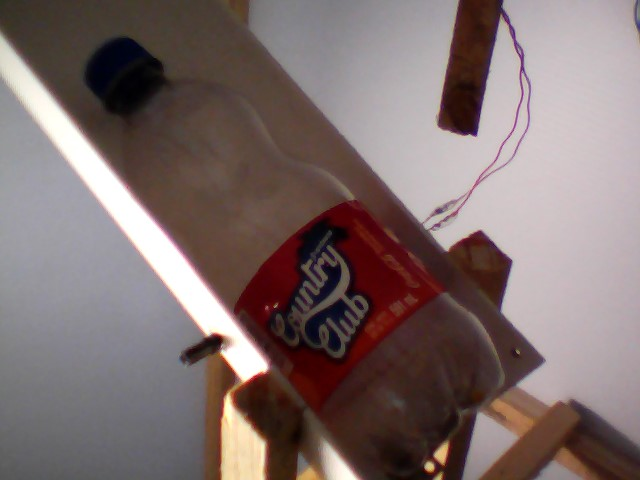plastico: (78, 32, 508, 478)
